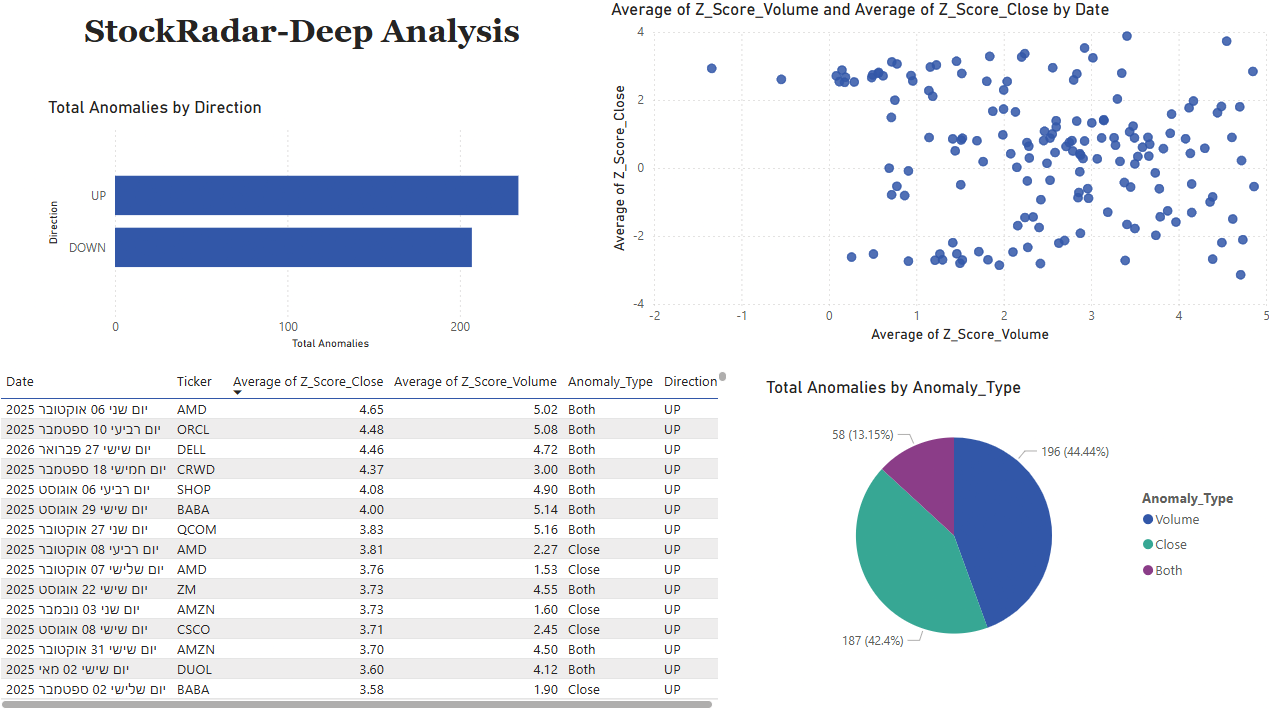

Layout of this report page (visuals, bound fields, positions):
{"tool":"powerbi","page":{"name":"Anomaly Analysis","canvas":[1280,720],"ordinal":2},"visuals":[{"type":"pieChart","fields":{"Y":["anomaly_results.Total Anomalies"],"Category":["anomaly_results.Anomaly_Type"]},"box":[201.3,37.2,399.9,295.6],"z":0},{"type":"barChart","fields":{"Category":["anomaly_results.Direction"],"Y":["anomaly_results.Total Anomalies"]},"box":[793.5,87.1,410.8,245.7],"z":1000},{"type":"scatterChart","fields":{"Y":["anomaly_results.Z_Score_Close"],"X":["anomaly_results.Z_Score_Volume"],"Category":["anomaly_results.Date"]},"box":[134.2,360,1041,348.2],"z":1001}]}

Visuals, with their boxes in screenshot pixels (x1, y1, x2, y2), scaled from the page's 1280x720 canvas onto the 1269x713 screenshot:
pieChart - anomaly_results.Total Anomalies x anomaly_results.Anomaly_Type: 200 37 596 330
barChart - anomaly_results.Direction x anomaly_results.Total Anomalies: 787 86 1194 330
scatterChart - anomaly_results.Z_Score_Close x anomaly_results.Z_Score_Volume: 133 356 1165 701
